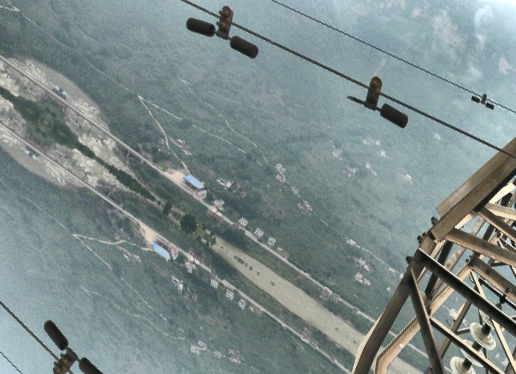damper: (183, 3, 263, 59), (39, 318, 101, 374), (469, 91, 497, 109)
damper_defect: (343, 72, 410, 130)
